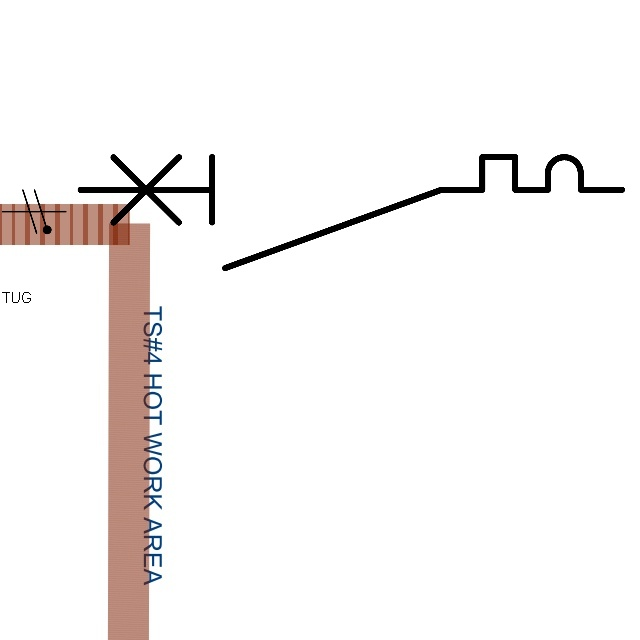interruptor_termomagnetico: (66, 143, 636, 282)
